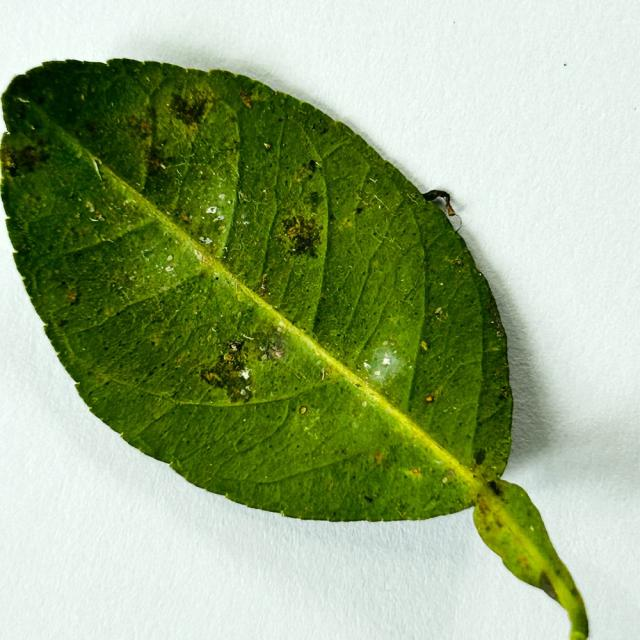Bacterial_Blight: (76, 78, 220, 190), (202, 340, 255, 399), (280, 209, 329, 263), (282, 213, 323, 256), (63, 212, 108, 250), (167, 91, 210, 129), (3, 143, 45, 177), (144, 146, 170, 178), (484, 294, 504, 332), (126, 114, 153, 141), (261, 335, 288, 361), (294, 159, 321, 184), (195, 231, 220, 254), (201, 368, 226, 388), (292, 235, 316, 255), (237, 86, 253, 108), (307, 189, 323, 210), (235, 385, 253, 403), (427, 384, 446, 401), (516, 555, 532, 571), (476, 498, 491, 515), (434, 306, 448, 322), (65, 286, 78, 303), (473, 449, 486, 466), (487, 480, 501, 495), (308, 159, 321, 172), (91, 210, 105, 222), (287, 226, 300, 238), (228, 341, 242, 352), (499, 387, 510, 399), (57, 318, 70, 328), (180, 212, 191, 223), (374, 452, 383, 463), (420, 341, 429, 352), (363, 494, 374, 503), (223, 353, 233, 362), (7, 159, 16, 169), (324, 365, 333, 375), (355, 206, 364, 215), (453, 258, 463, 266), (299, 406, 307, 414), (425, 395, 434, 402), (412, 468, 421, 475), (218, 225, 226, 232), (496, 331, 502, 338)
Lemon: (0, 60, 591, 639)
